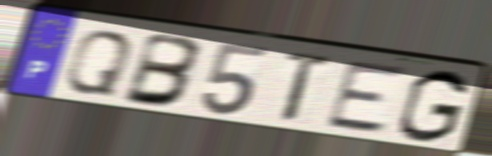5: (199, 42, 272, 118)
B: (120, 29, 206, 110)
E: (321, 60, 411, 137)
G: (394, 68, 472, 146)
Q: (61, 28, 137, 99)
T: (280, 49, 336, 126)
